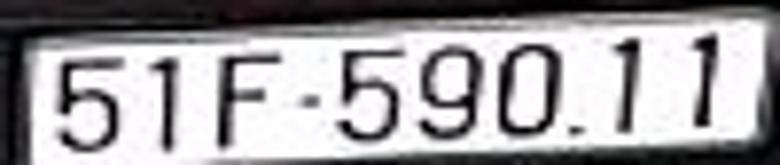-: (293, 89, 322, 109)
.: (565, 120, 585, 142)
0: (494, 41, 561, 139)
1: (686, 29, 721, 130), (609, 34, 644, 134), (146, 58, 182, 155)
5: (54, 53, 126, 155), (338, 48, 411, 140)
9: (417, 41, 484, 141)
F: (211, 49, 286, 148)
